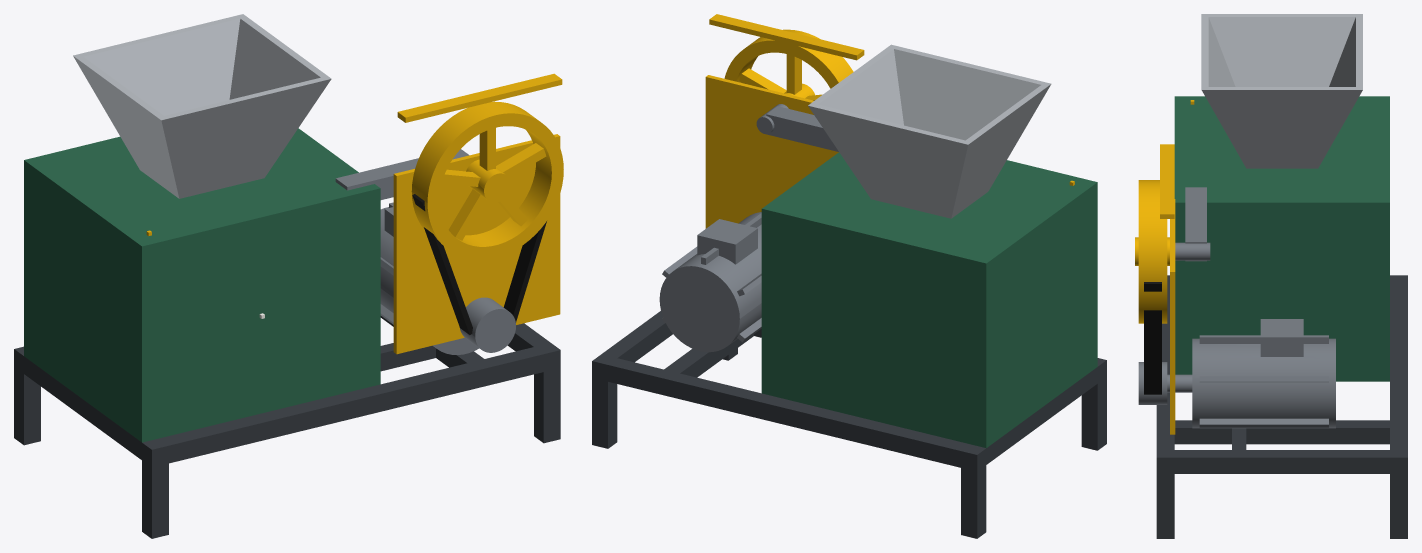
File: Molino.fbx
3 renders of one model, left to right at view 1: azimuth 30°, elevation 25°; view 2: azimuth 150°, elevation 25°; view 3: azimuth 270°, elevation 25°, orthographic. The views are drawn at different scales.
Parts seen in each view (by area): view 1: Body, Hopper, Guard, Base, Rotor, Motor; view 2: Body, Hopper, Base, Guard, Motor, Rotor; view 3: Body, Hopper, Base, Motor, Guard, Rotor.
Part boxes in pixels (<box>): Body: <box>24,128,468,442</box>; Hopper: <box>73,14,331,198</box>; Guard: <box>393,73,562,354</box>; Base: <box>14,316,560,538</box>; Rotor: <box>411,101,563,259</box>; Motor: <box>380,202,479,354</box>; Body: <box>756,104,1097,448</box>; Hopper: <box>808,44,1051,218</box>; Base: <box>592,311,1106,538</box>; Guard: <box>705,14,864,228</box>; Motor: <box>659,212,761,352</box>; Rotor: <box>724,29,853,100</box>; Body: <box>1174,96,1389,381</box>; Hopper: <box>1201,14,1362,168</box>; Base: <box>1156,275,1407,538</box>; Motor: <box>1167,319,1335,428</box>; Guard: <box>1138,144,1175,434</box>; Rotor: <box>1135,180,1169,323</box>.
Size of the model in its own units: 1.22 by 1.1 by 0.76.
